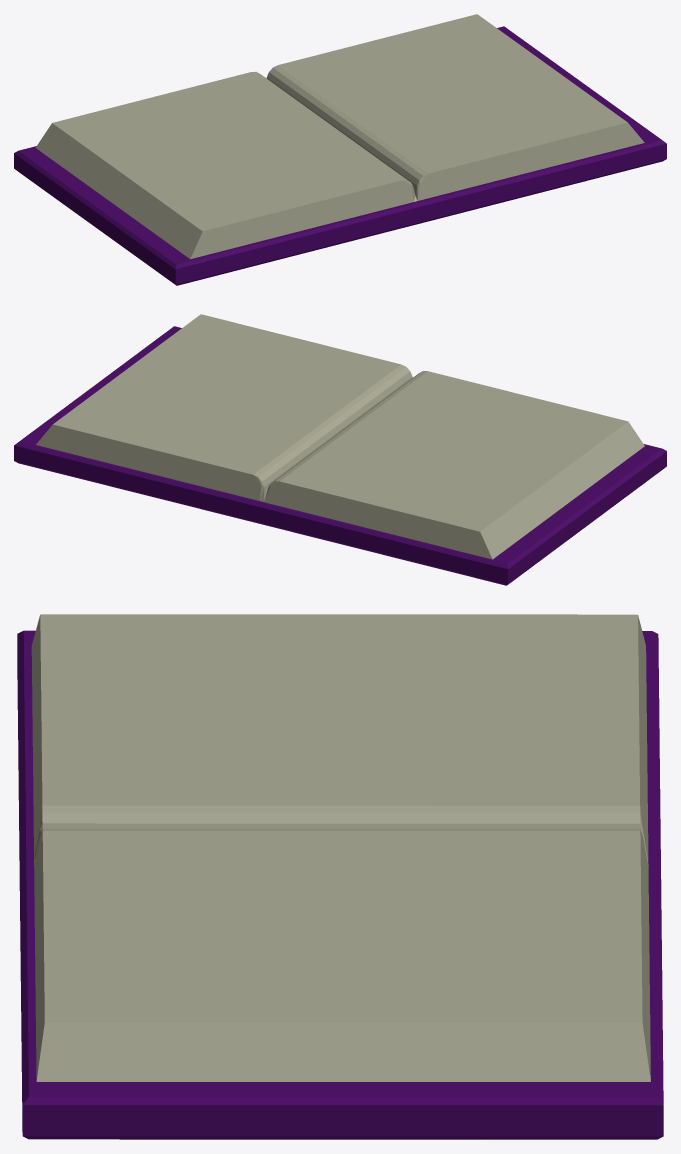
File: Open Book Two.fbx
3 views of the same model, one above another, from view 1: azimuth 30°, elevation 25°; view 2: azimuth 150°, elevation 25°; view 3: azimuth 270°, elevation 25° (orthographic). The views are drawn at different scales.
Visible parts, largest first — view 1: polySurface287; view 2: polySurface287; view 3: polySurface287.
Part boxes in pixels (<box>): polySurface287: <box>14,14,666,285</box>; polySurface287: <box>14,314,666,585</box>; polySurface287: <box>17,614,663,1139</box>.
Size of the model in its own units: 2.62 by 0.2482 by 1.49.
